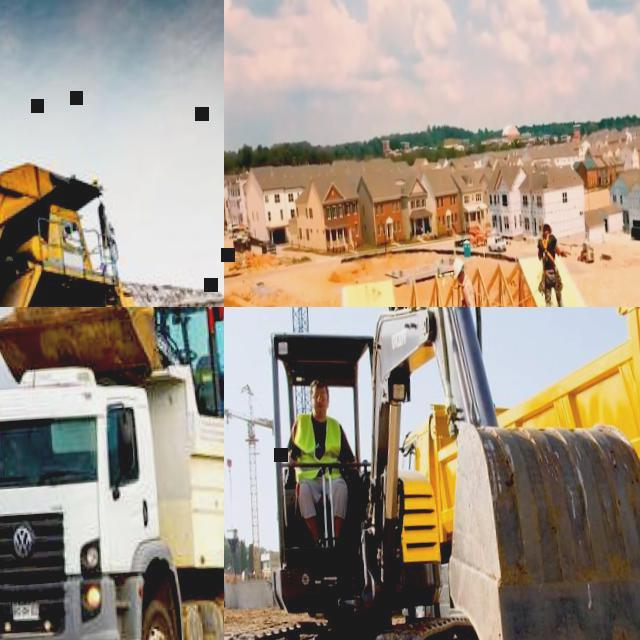helmet: (454, 256, 466, 278), (543, 218, 553, 232)
machinery: (224, 307, 640, 640), (387, 307, 640, 640), (0, 337, 224, 640), (0, 47, 164, 307), (0, 307, 224, 452), (469, 226, 488, 247)
no_helmet: (312, 376, 328, 388)
no_mask: (312, 402, 328, 417), (458, 276, 464, 282)
no_vest: (292, 411, 346, 475), (540, 233, 558, 270)
person: (282, 374, 364, 545), (537, 216, 568, 307), (453, 255, 485, 307)
vehicle: (487, 234, 508, 252), (631, 224, 640, 241), (230, 220, 240, 230)
